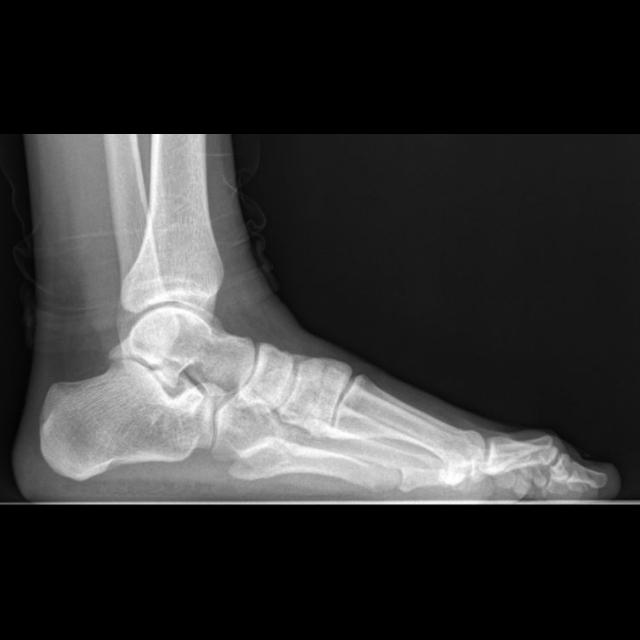a: (42, 360, 204, 482)
b: (240, 342, 295, 410)
c: (333, 375, 486, 469)
